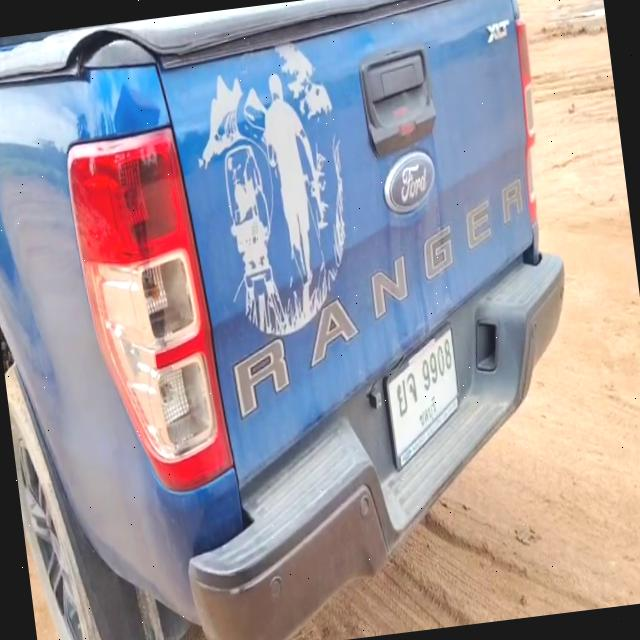Digit: (416, 337, 456, 391)
Licenseplate: (381, 315, 462, 480)
Provincename: (417, 394, 440, 426)
Thaichar: (393, 371, 419, 417)
